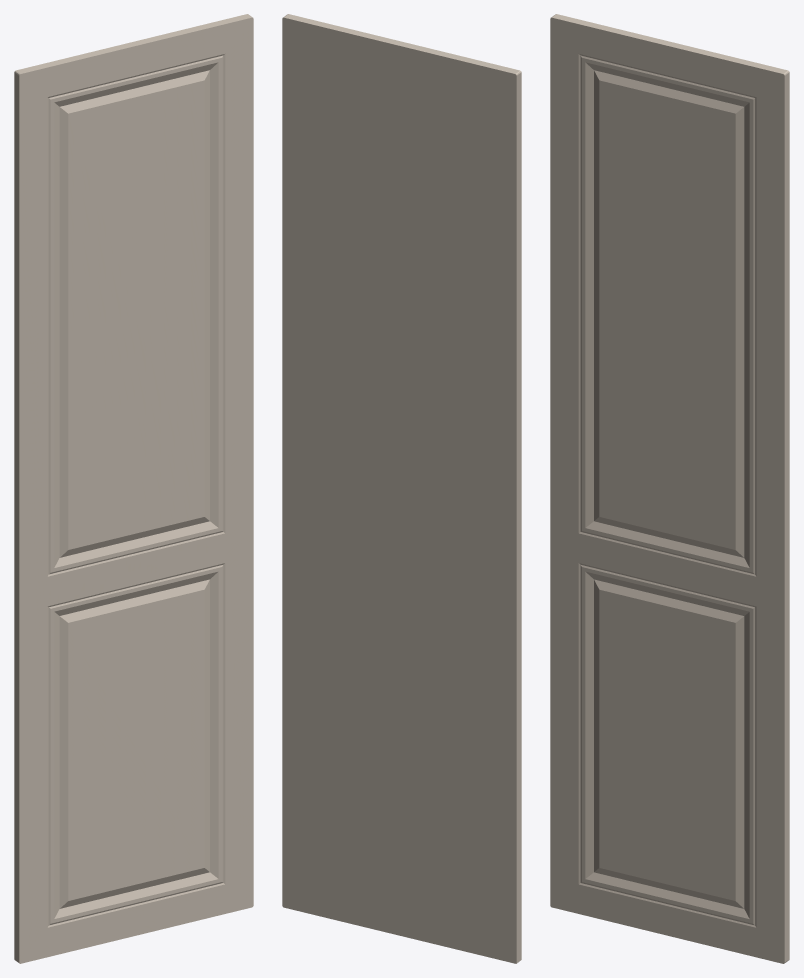
File: NRD BOY KPK 01.glb
The picture shows the model from 3 angles, left to right: view 1: azimuth 30°, elevation 25°; view 2: azimuth 150°, elevation 25°; view 3: azimuth 330°, elevation 25°; orthographic projection.
Visible parts, largest first — view 1: NRD BOY KPK 01; view 2: NRD BOY KPK 01; view 3: NRD BOY KPK 01.
Boxes of the visible parts, x1,y1,x2,y2 form: NRD BOY KPK 01: [14, 14, 253, 963]; NRD BOY KPK 01: [282, 14, 521, 963]; NRD BOY KPK 01: [550, 14, 789, 963].
Bounding box in the file's own units: 0.4959 × 1.8 × 0.018.
